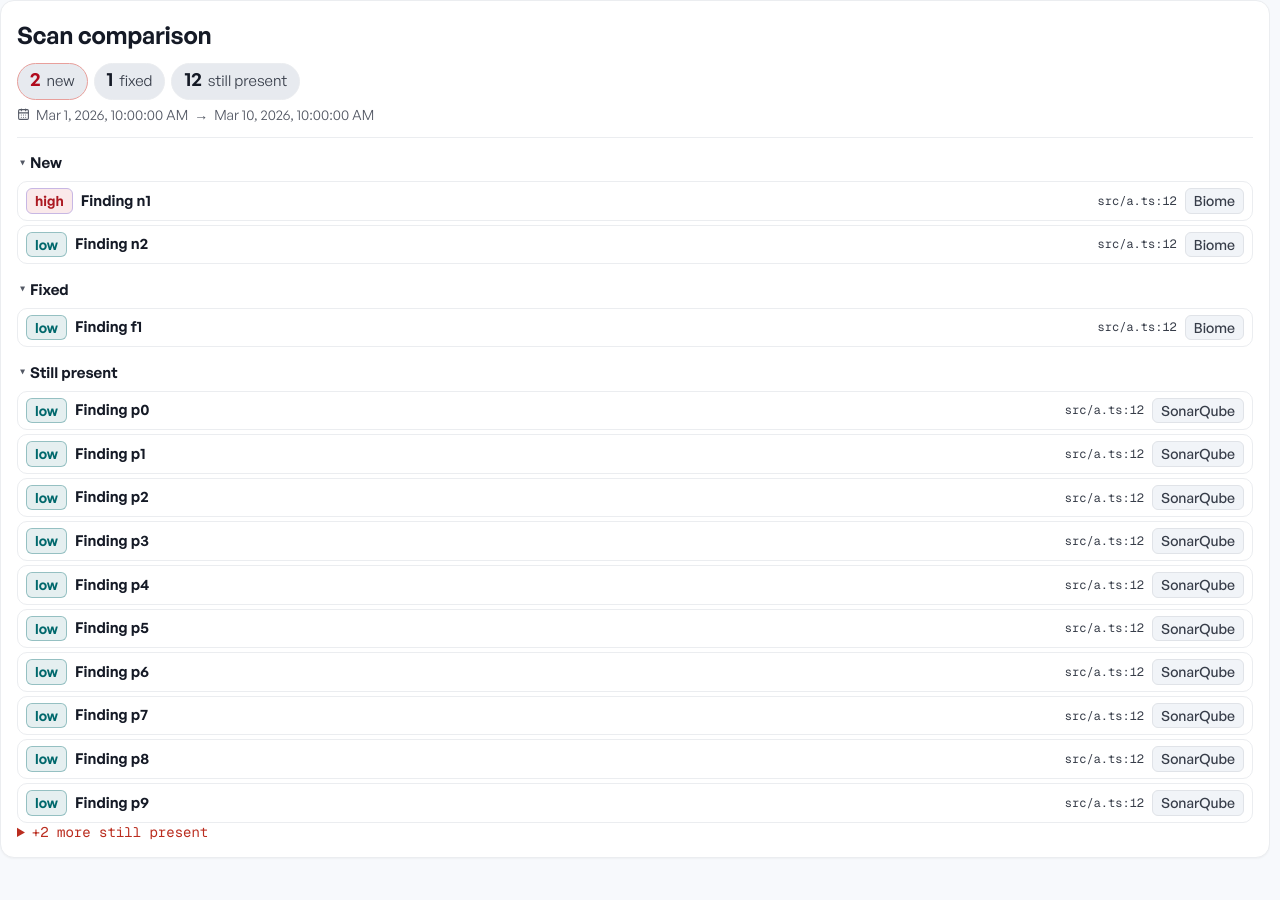
it: ComparePanel › collapses a section through its aria-expanded toggle
Expected: the list with class "what-changed-list" that starts with "high" is shown, [17,181,1253,264]
Click the button with class "compare-section-toggle" showing "▸ New" at (41, 162), box [17,150,66,175]
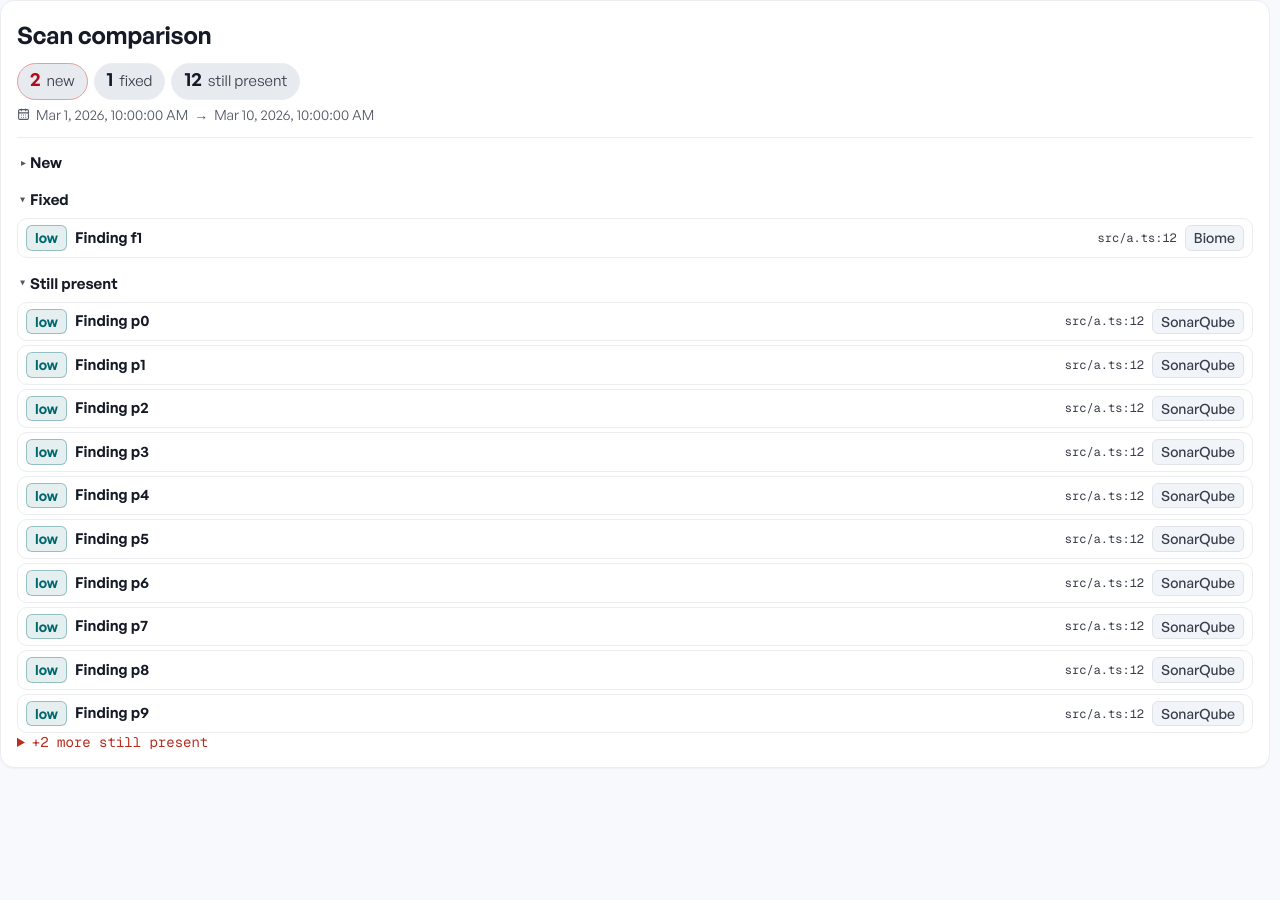
Now the button with class "compare-section-toggle" is collapsed, box [17,150,66,175]
